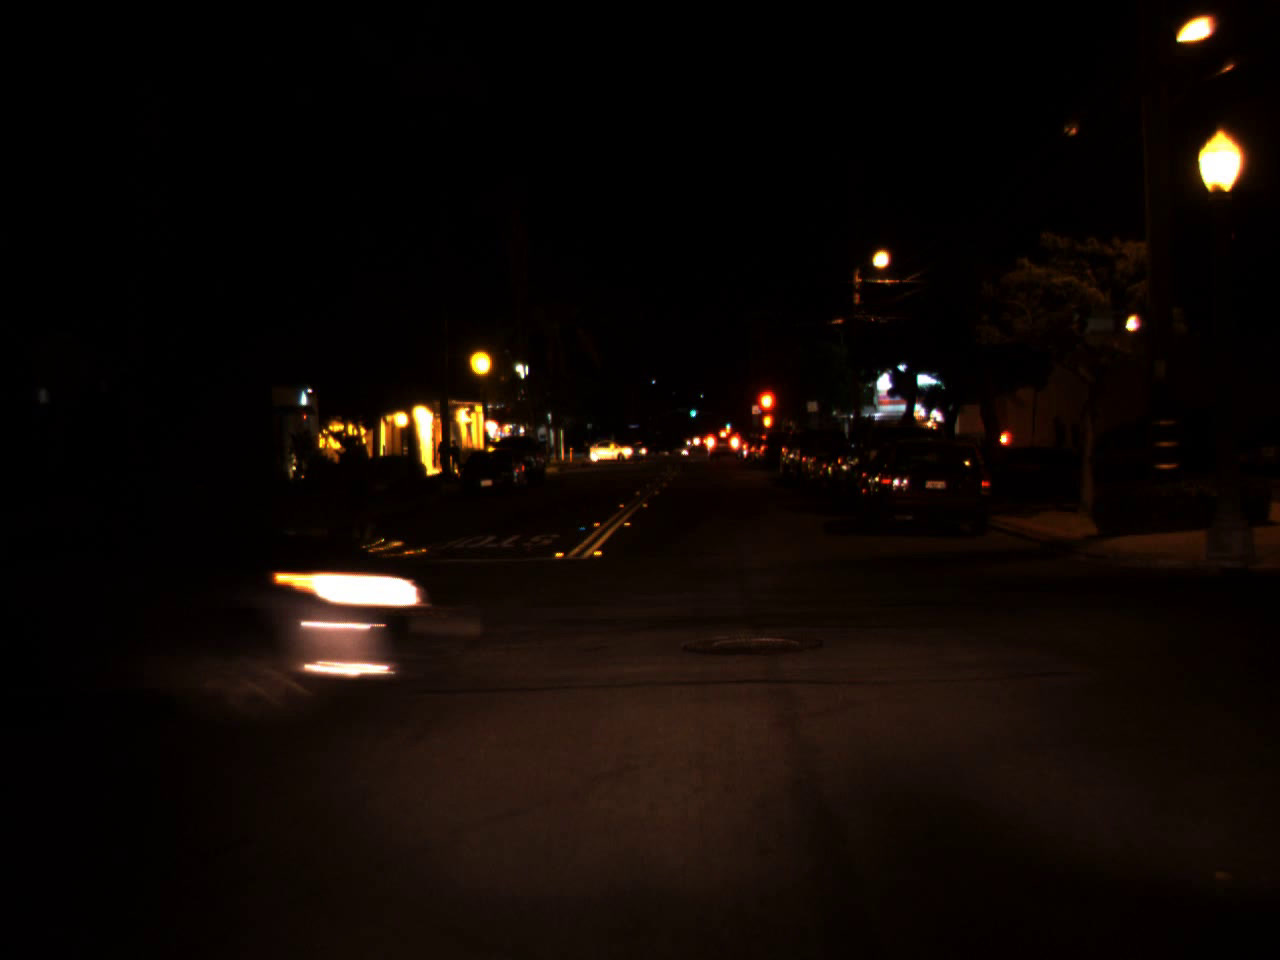go: (687, 402, 696, 417), (723, 416, 730, 428)
stop: (755, 387, 779, 435)
